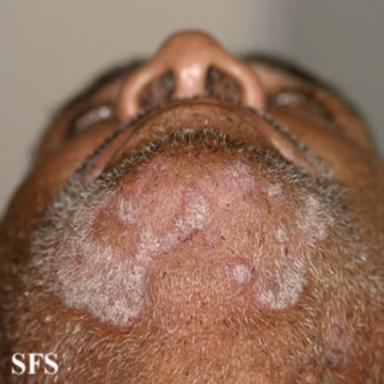Psoriasis: (53, 154, 254, 327), (253, 195, 335, 309), (323, 312, 356, 367), (229, 257, 252, 286), (264, 183, 283, 198)
